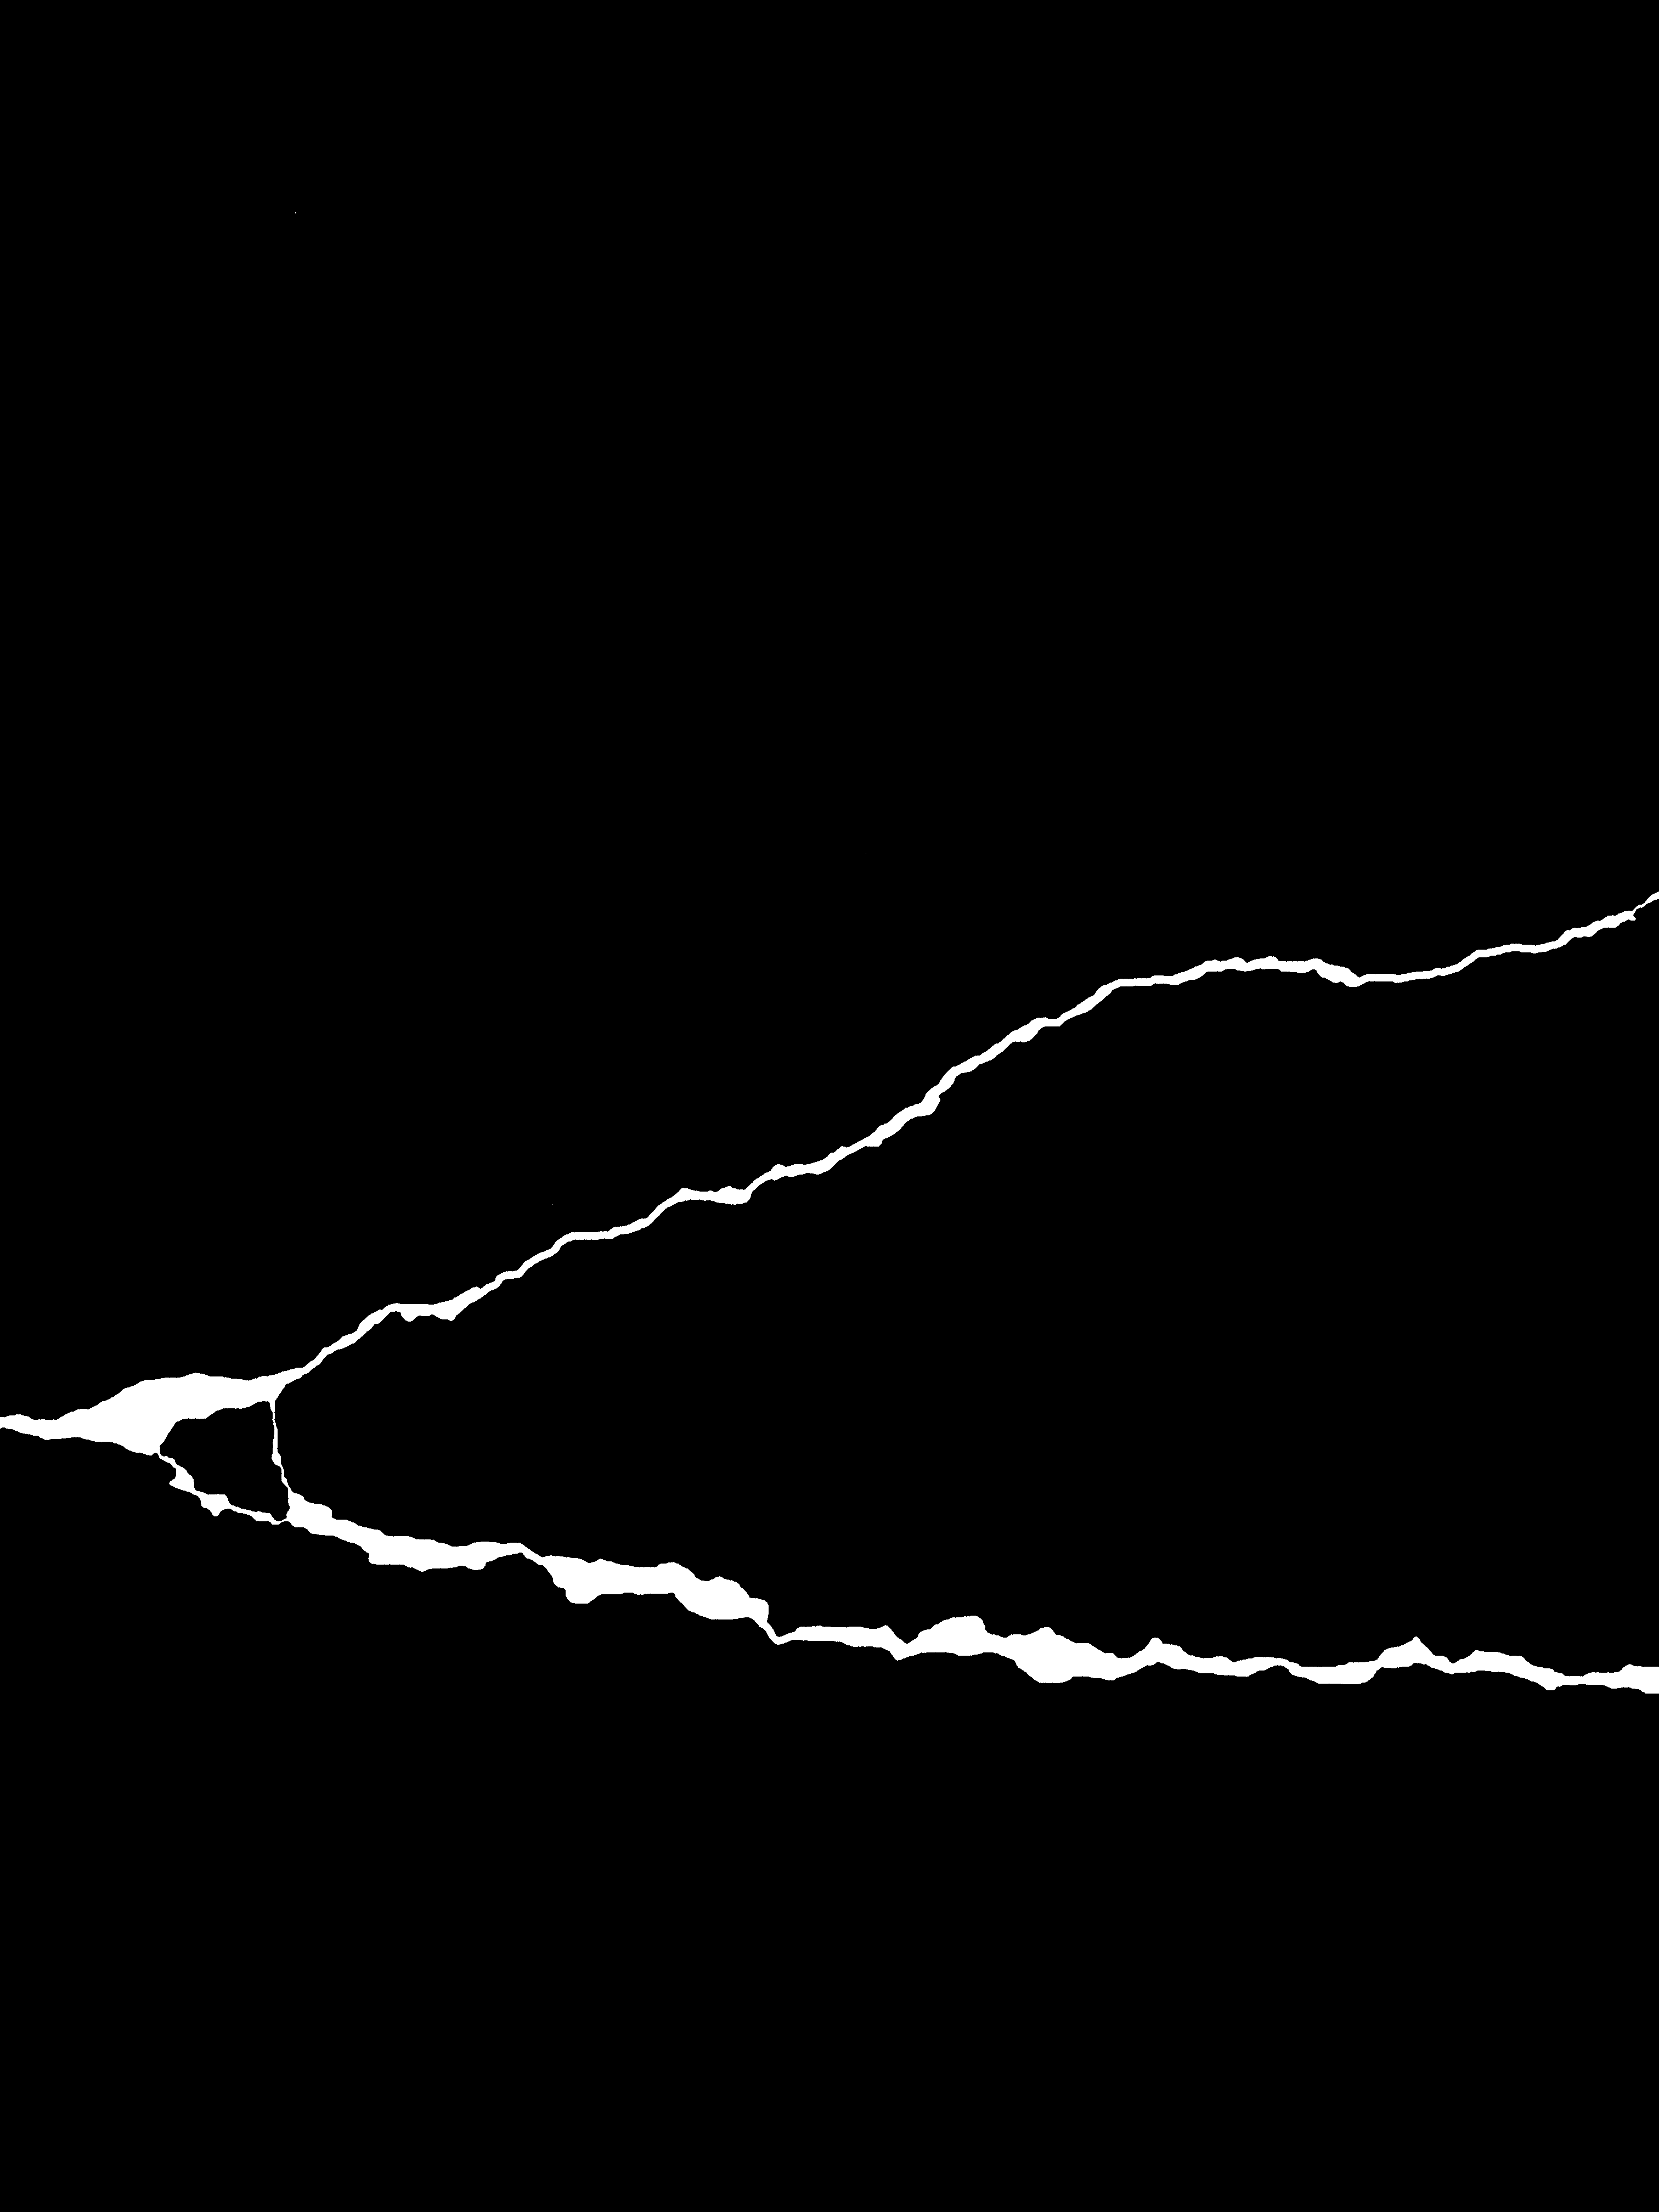Crack: (0, 874, 1659, 1710)
